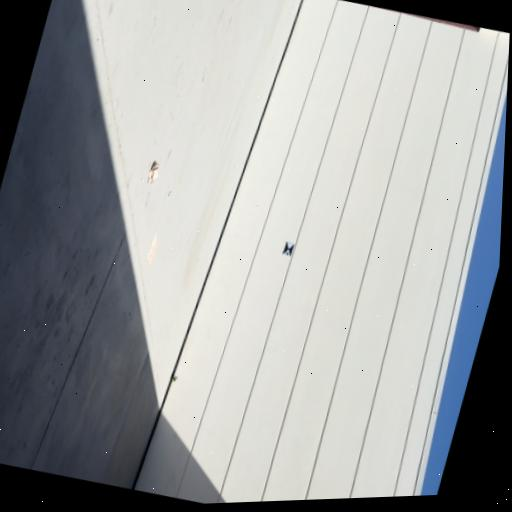target7: (282, 241, 295, 257)
